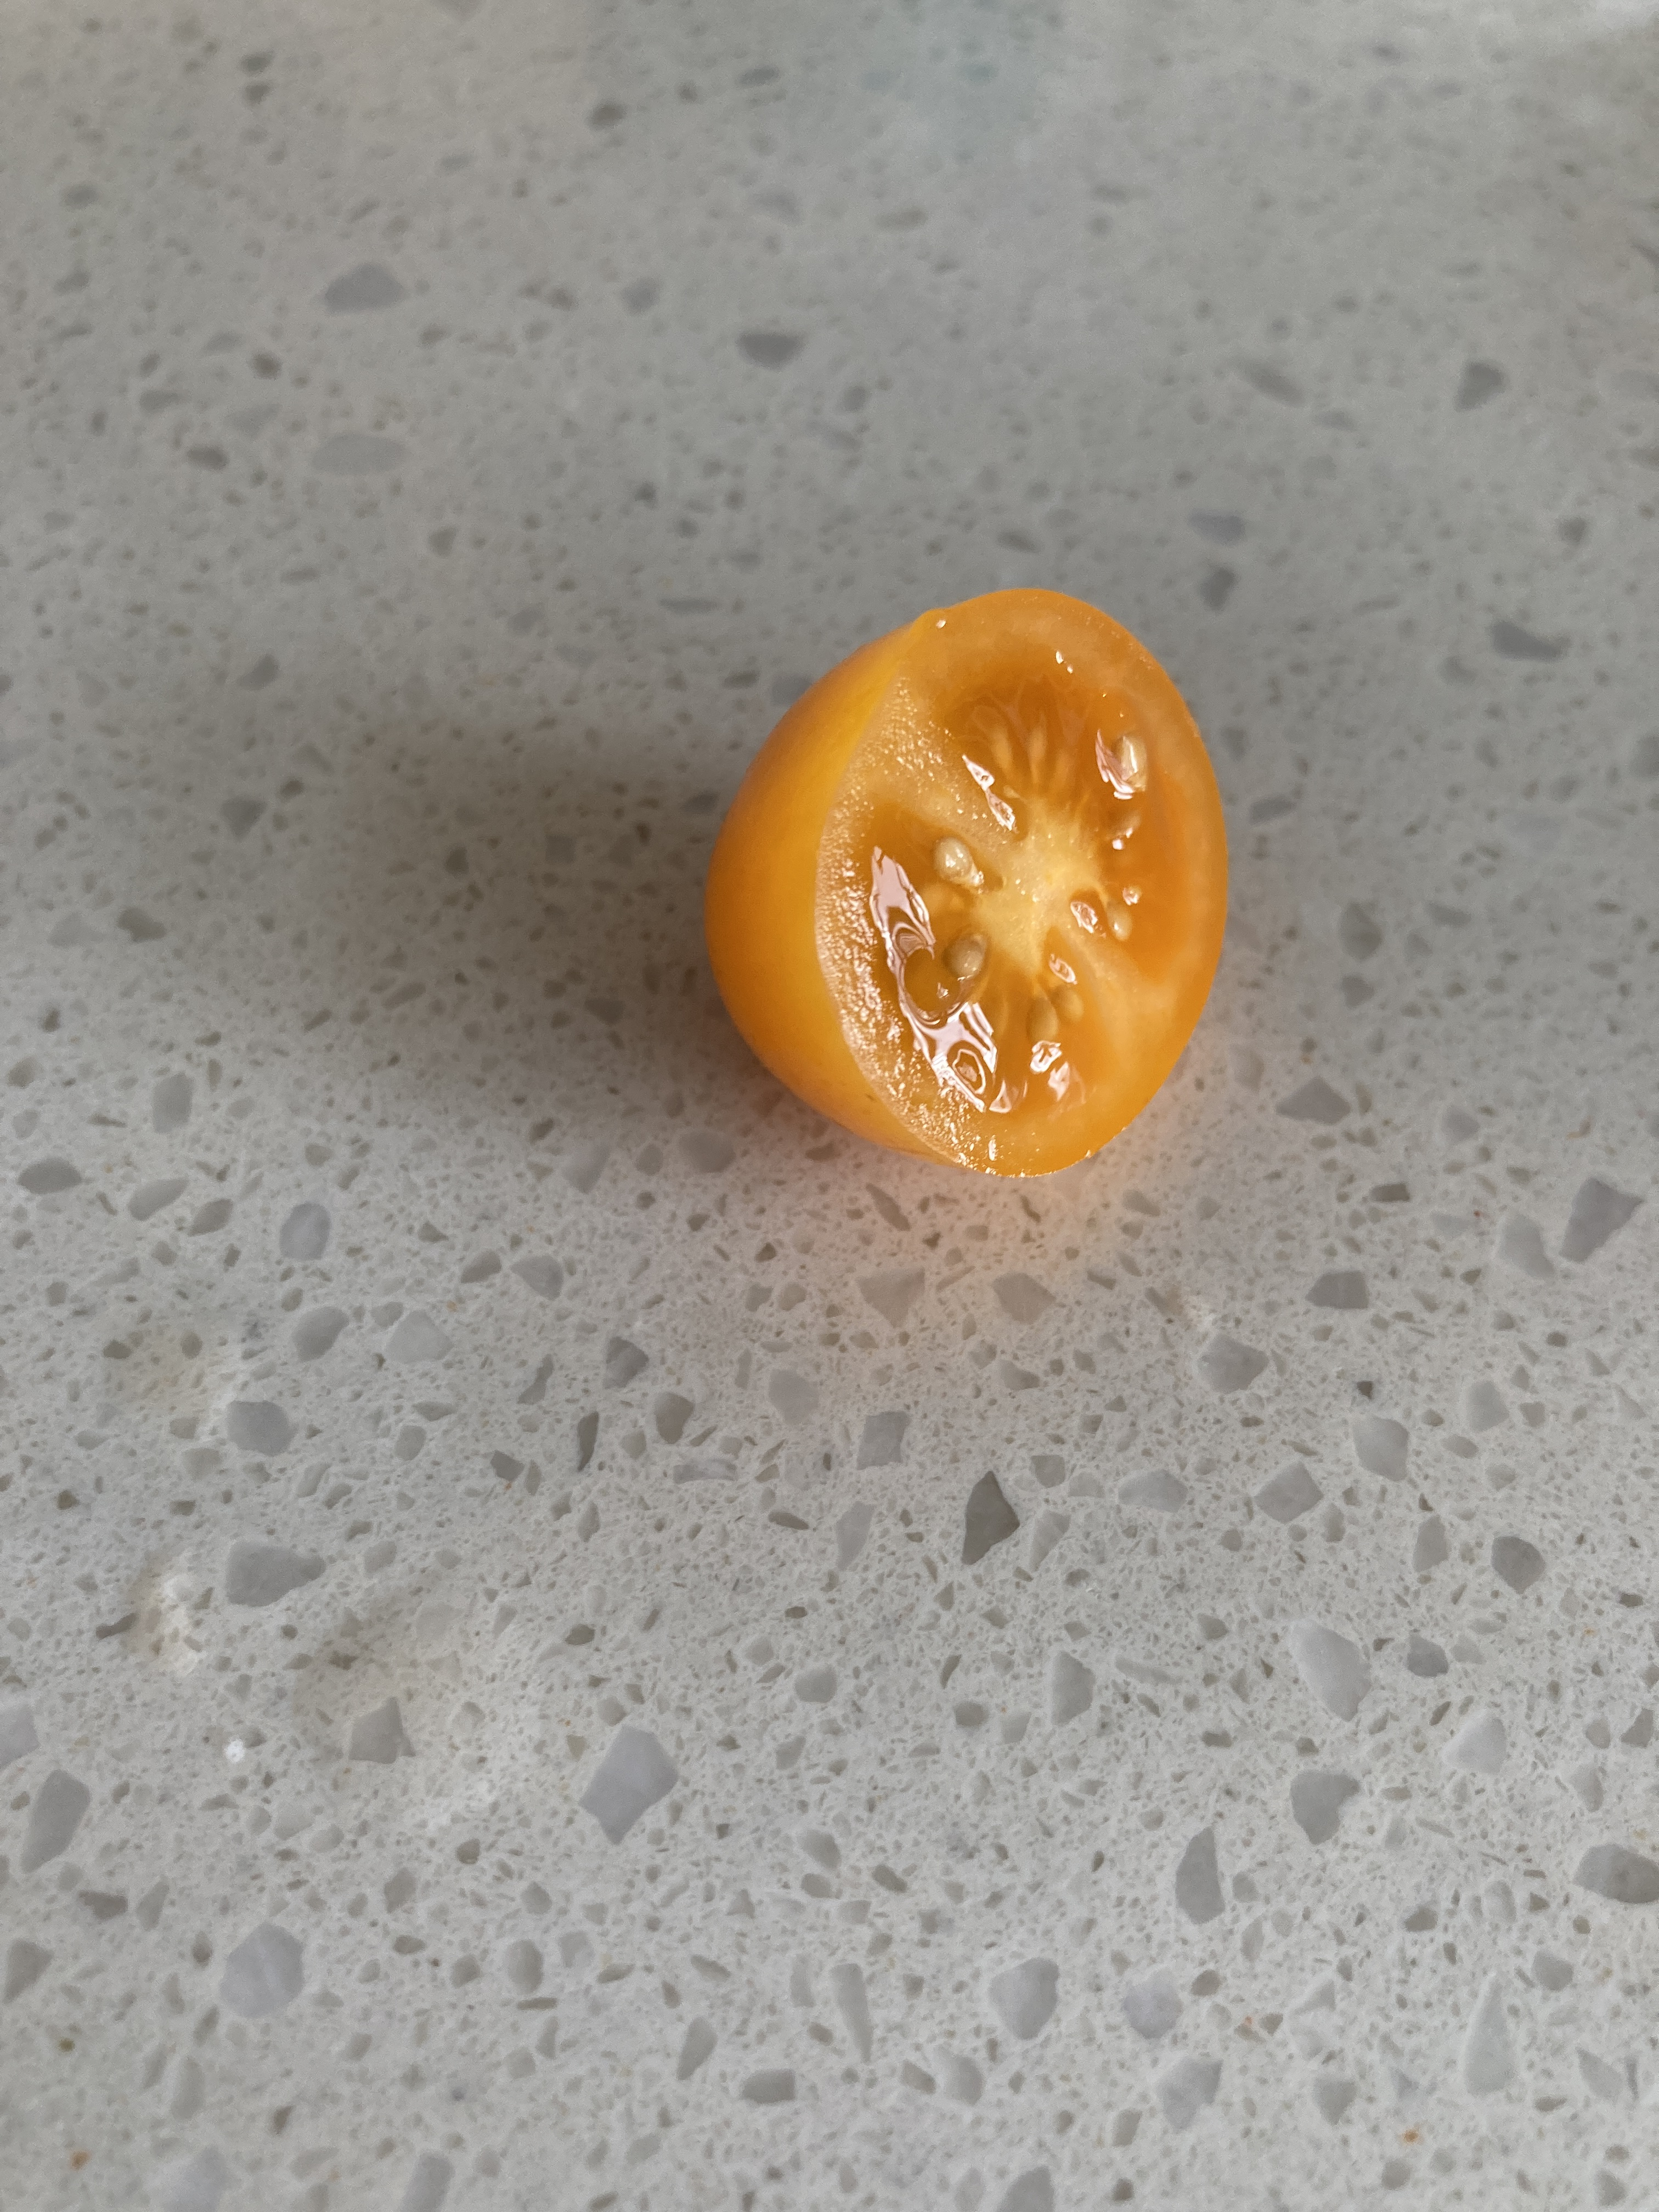healthy-tomato: (692, 589, 1236, 1176)
